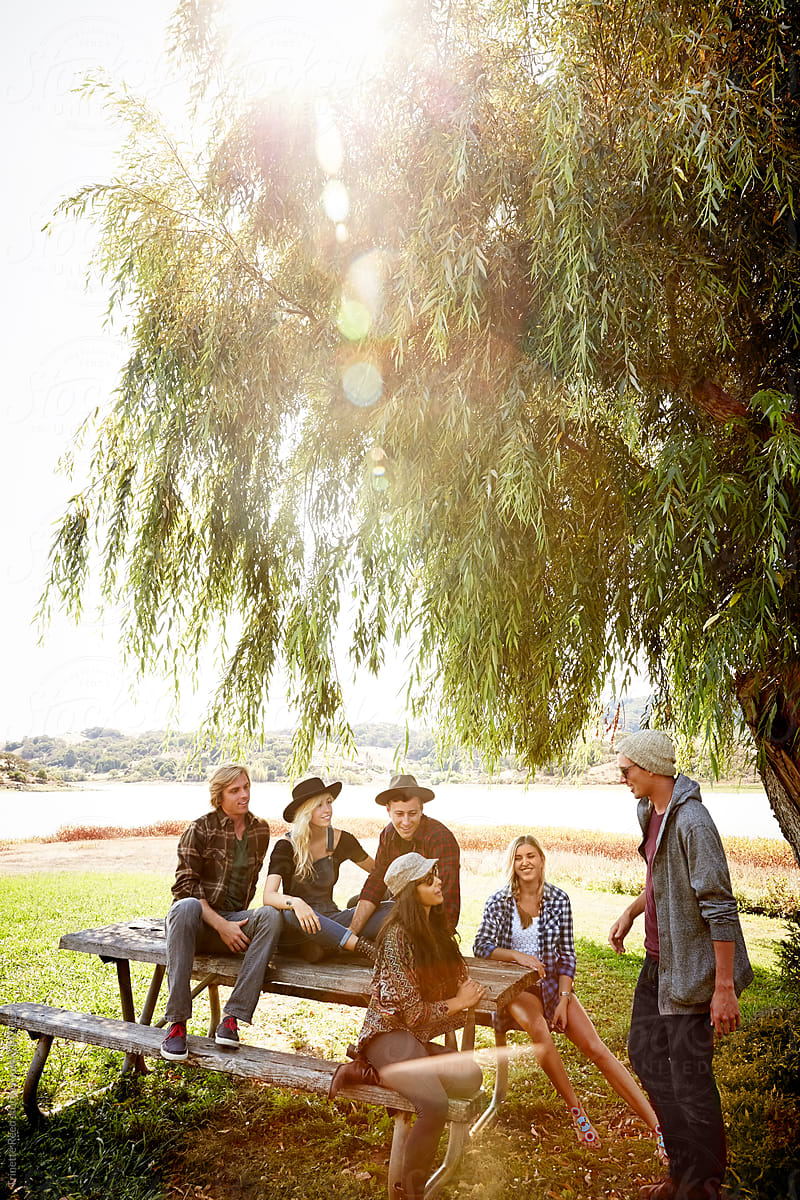Person: (591, 712, 779, 1198), (473, 829, 693, 1194), (318, 825, 520, 1184), (134, 749, 293, 1074), (258, 770, 403, 968), (346, 768, 473, 988)
